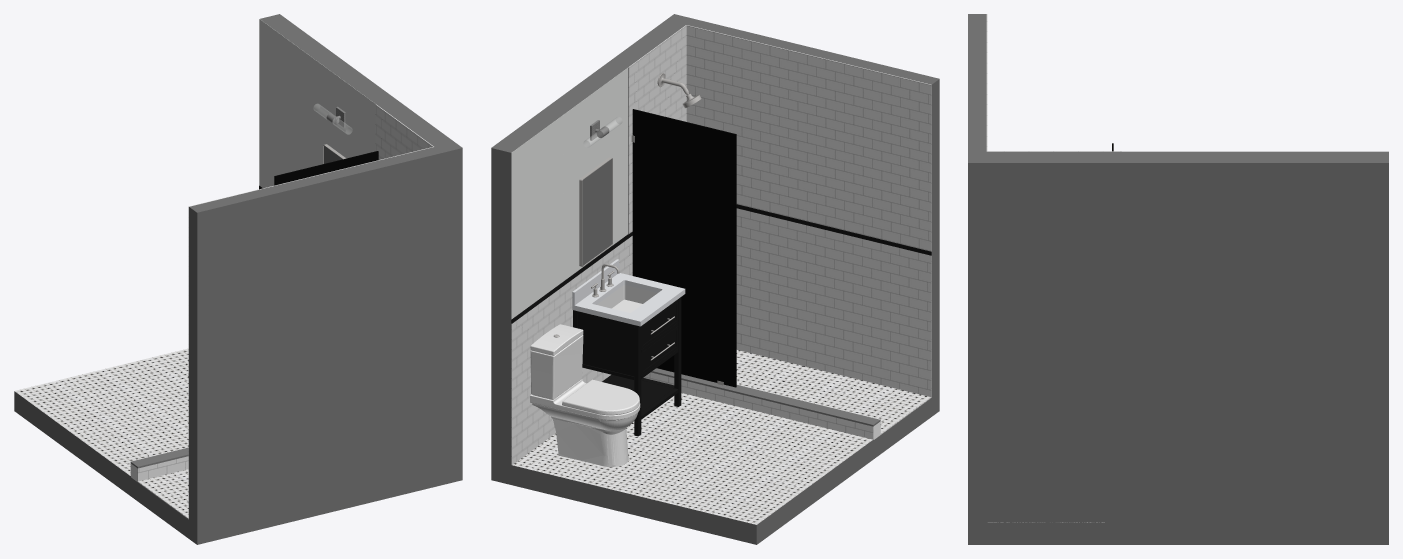
The picture shows the model from 3 angles, left to right: view 1: azimuth 30°, elevation 25°; view 2: azimuth 150°, elevation 25°; view 3: azimuth 270°, elevation 25°; orthographic projection. The views are drawn at different scales.
Parts seen in each view (by area): view 1: 3DGeom-76, 3DGeom-37, 3DGeom-71, 3DGeom-77, 3DGeom-35, 3DGeom-34, 3DGeom-64, 3DGeom-39, 3DGeom-68; view 2: 3DGeom-66, 3DGeom-60, 3DGeom-37, 3DGeom-39, 3DGeom-71, 3DGeom-77, 3DGeom-35, 3DGeom-31, 3DGeom-34, 3DGeom-62, 3DGeom-76, 3DGeom-3 (+14 smaller); view 3: 3DGeom-77, 3DGeom-35, 3DGeom-76.
Boxes of the visible parts, bbox=[...] form: 3DGeom-76: bbox=[189, 147, 442, 525]; 3DGeom-37: bbox=[14, 348, 188, 475]; 3DGeom-71: bbox=[259, 19, 375, 188]; 3DGeom-77: bbox=[260, 14, 462, 465]; 3DGeom-35: bbox=[14, 392, 462, 544]; 3DGeom-34: bbox=[138, 469, 188, 518]; 3DGeom-64: bbox=[383, 110, 433, 158]; 3DGeom-39: bbox=[274, 151, 378, 185]; 3DGeom-68: bbox=[137, 456, 188, 481]; 3DGeom-66: bbox=[686, 25, 931, 251]; 3DGeom-60: bbox=[736, 208, 931, 397]; 3DGeom-37: bbox=[512, 393, 872, 524]; 3DGeom-39: bbox=[632, 109, 736, 387]; 3DGeom-71: bbox=[511, 68, 627, 319]; 3DGeom-77: bbox=[491, 14, 693, 465]; 3DGeom-35: bbox=[491, 392, 939, 544]; 3DGeom-31: bbox=[573, 297, 681, 436]; 3DGeom-34: bbox=[736, 350, 930, 433]; 3DGeom-62: bbox=[511, 239, 628, 464]; 3DGeom-76: bbox=[686, 19, 939, 397]; 3DGeom-3: bbox=[530, 324, 640, 462]; 3DGeom-77: bbox=[968, 151, 1388, 522]; 3DGeom-35: bbox=[968, 523, 1388, 544]; 3DGeom-76: bbox=[968, 14, 986, 151].
Size of the model in its own units: 2.17 by 2.59 by 2.59.
